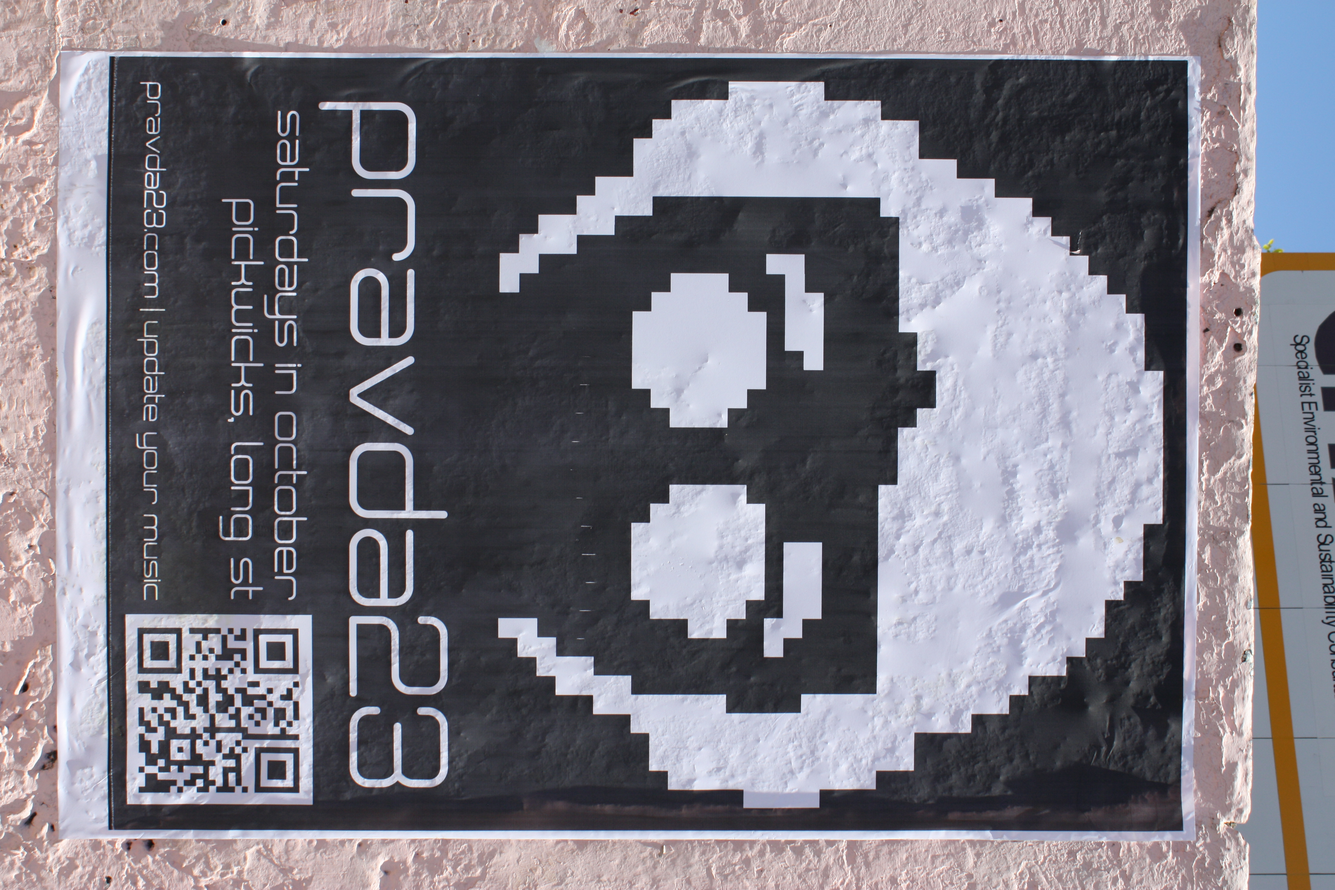QR-CODE: (138, 628, 299, 792)
